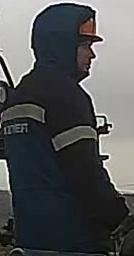helmet: (77, 13, 105, 45)
vest: (0, 68, 117, 254)
